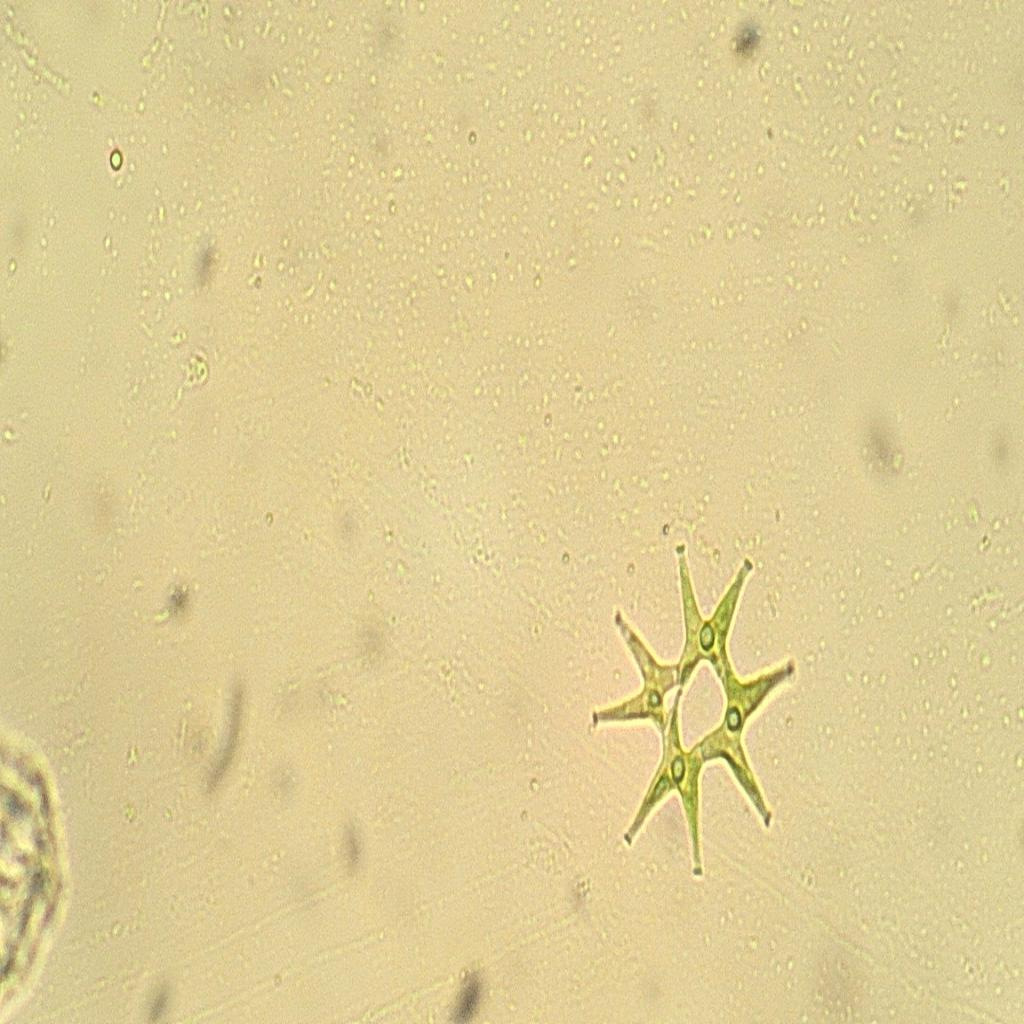Pediastrum_CF: (582, 520, 802, 902)
